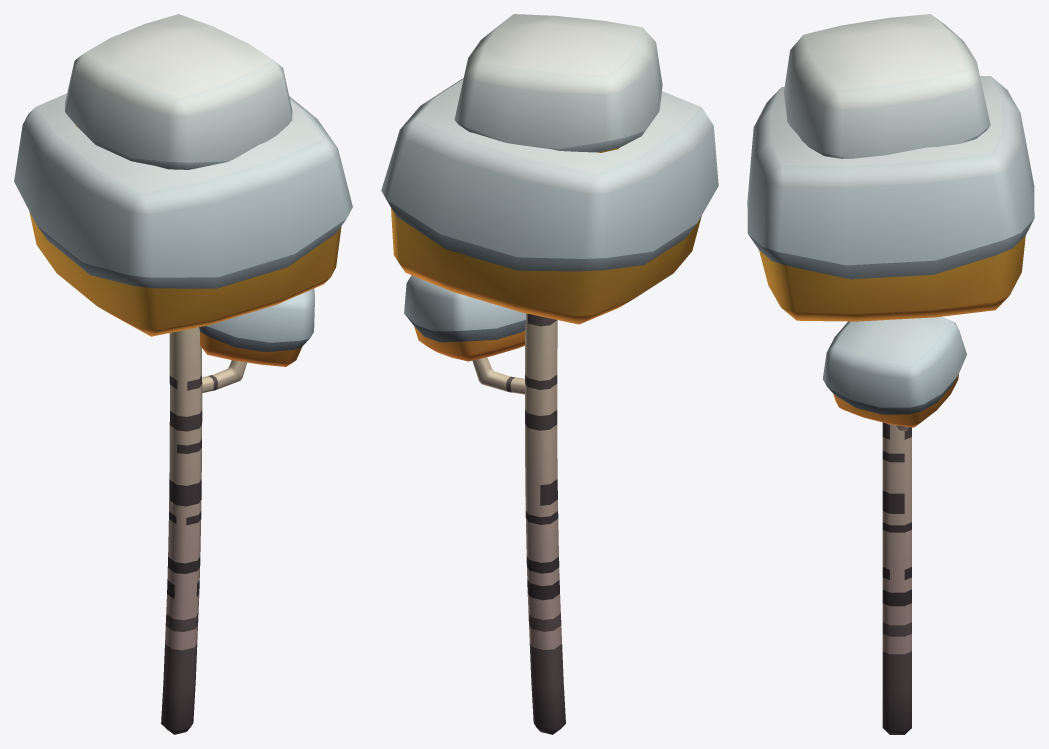
The model's file is birch_tree_col2_04_snow.fbx.
3 views of the same model, side by side, from view 1: azimuth 30°, elevation 25°; view 2: azimuth 150°, elevation 25°; view 3: azimuth 270°, elevation 25° (orthographic).
Visible parts, largest first — view 1: birch_tree_SC_col2_04_snow; view 2: birch_tree_SC_col2_04_snow; view 3: birch_tree_SC_col2_04_snow.
Boxes of the visible parts, x1,y1,x2,y2 form: birch_tree_SC_col2_04_snow: (14,14,352,734); birch_tree_SC_col2_04_snow: (381,14,718,734); birch_tree_SC_col2_04_snow: (747,14,1034,734).
Bounding box in the file's own units: 382 × 978 × 370.
